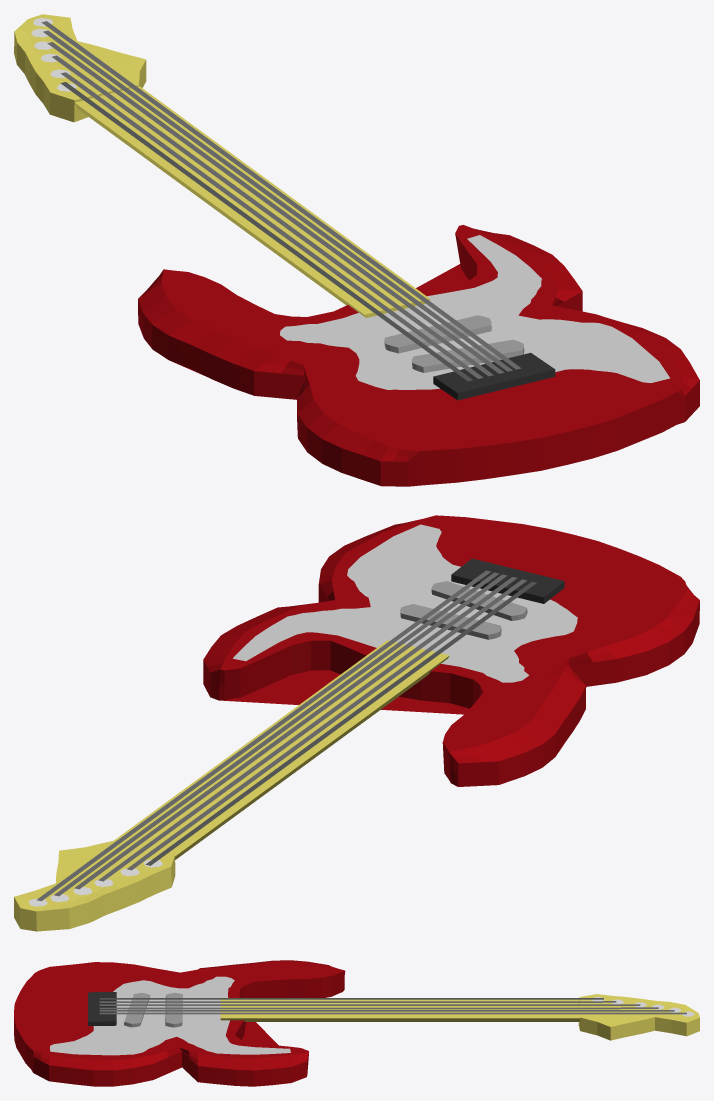
Rendered from guitar.fbx.
The picture shows the model from 3 angles, top to bottom: view 1: azimuth 30°, elevation 25°; view 2: azimuth 150°, elevation 25°; view 3: azimuth 270°, elevation 25°; orthographic projection. The views are drawn at different scales.
Parts seen in each view (by area): view 1: guitar_body, guitar_neck, guitar_head, guitar_string6, guitar_string5, guitar_bridge, guitar_string4, guitar_string3, guitar_string2, guitar_string1, guitar_pickup2, guitar_pickup1; view 2: guitar_body, guitar_neck, guitar_head, guitar_string6, guitar_string5, guitar_string4, guitar_string3, guitar_string2, guitar_bridge, guitar_string1, guitar_pickup2, guitar_pickup1; view 3: guitar_body, guitar_neck, guitar_head, guitar_string6, guitar_string4, guitar_string5, guitar_string3, guitar_string2, guitar_string1, guitar_bridge, guitar_pickup2, guitar_pickup1.
Boxes of the visible parts, x1,y1,x2,y2 form: guitar_body: (138,225,699,486); guitar_neck: (75,86,429,317); guitar_head: (14,14,146,122); guitar_string6: (41,21,521,369); guitar_string5: (43,30,512,371); guitar_bridge: (433,352,555,400); guitar_string4: (47,42,504,373); guitar_string3: (52,55,493,376); guitar_string2: (60,72,483,378); guitar_string1: (60,82,472,381); guitar_pickup2: (384,315,491,353); guitar_pickup1: (412,339,524,372); guitar_body: (203,515,699,786); guitar_neck: (113,640,449,859); guitar_head: (14,841,175,931); guitar_string6: (36,570,490,901); guitar_string5: (54,572,498,896); guitar_string4: (74,574,506,889); guitar_string3: (98,577,517,881); guitar_string2: (127,579,527,870); guitar_bridge: (451,558,564,603); guitar_string1: (146,581,536,865); guitar_pickup2: (400,604,501,639); guitar_pickup1: (431,581,527,620); guitar_body: (14,960,345,1086); guitar_neck: (220,999,580,1021); guitar_head: (578,994,699,1040); guitar_string6: (99,1012,686,1014); guitar_string4: (99,1007,658,1009); guitar_string5: (99,1010,674,1011); guitar_string3: (99,1004,640,1005); guitar_string2: (99,1001,616,1002); guitar_string1: (99,998,603,999); guitar_bridge: (88,992,116,1026); guitar_pickup2: (165,992,182,1027); guitar_pickup1: (124,993,150,1027).
Bounding box in the file's own units: 338 × 37 × 877.
